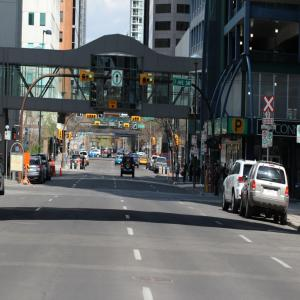Vehicle-registration-plate: (264, 190, 279, 198)
